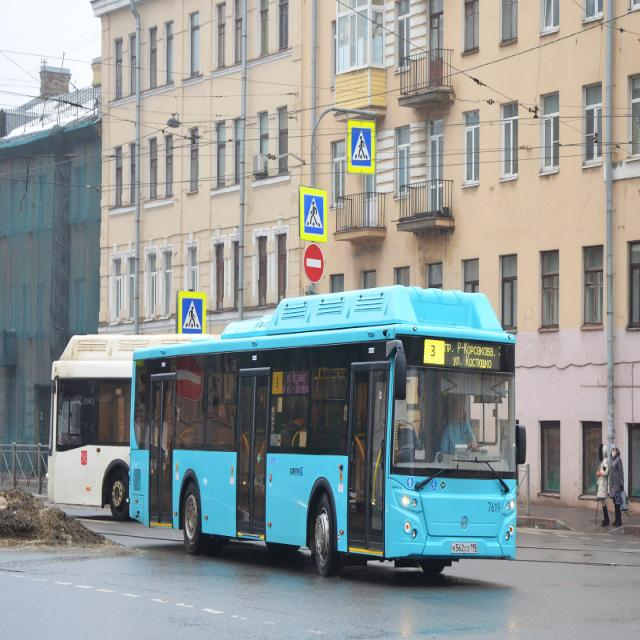number-of-bus: (428, 343, 439, 361)
